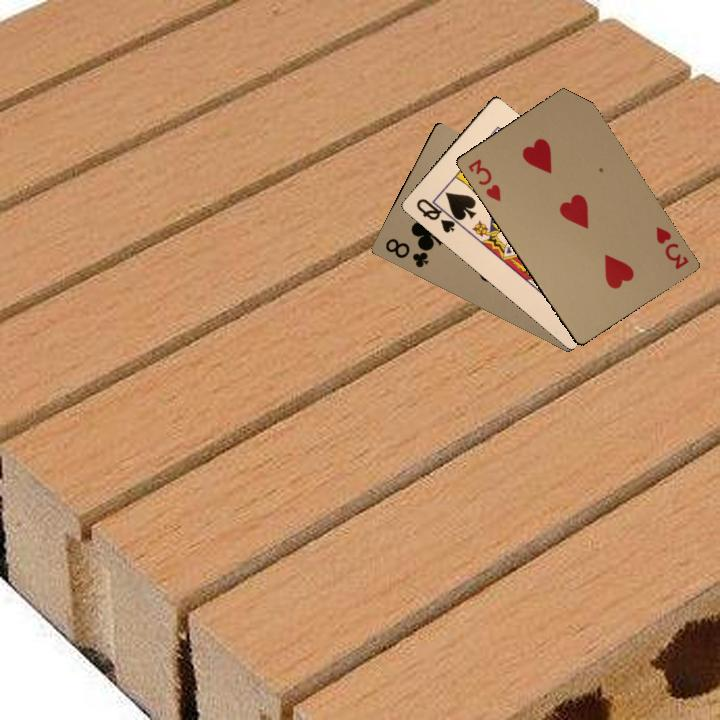3h: (652, 223, 692, 272), (464, 155, 503, 204)
8c: (381, 234, 431, 270)
Qs: (412, 194, 464, 235)
